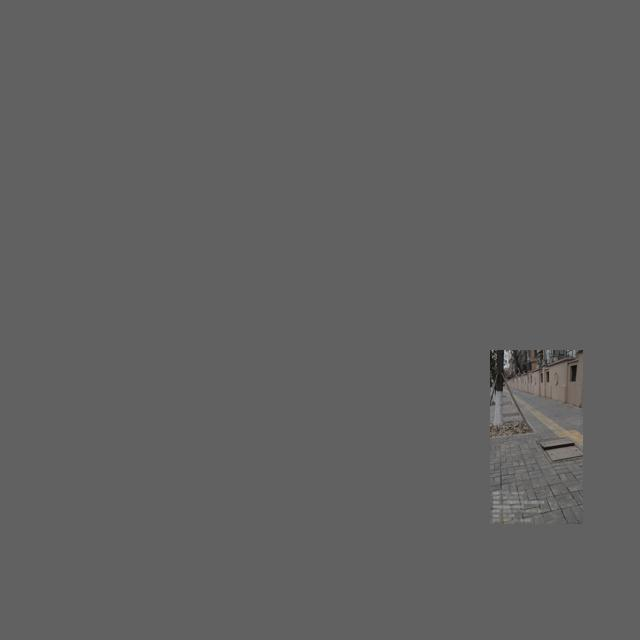uncovered: (535, 437, 583, 463)
